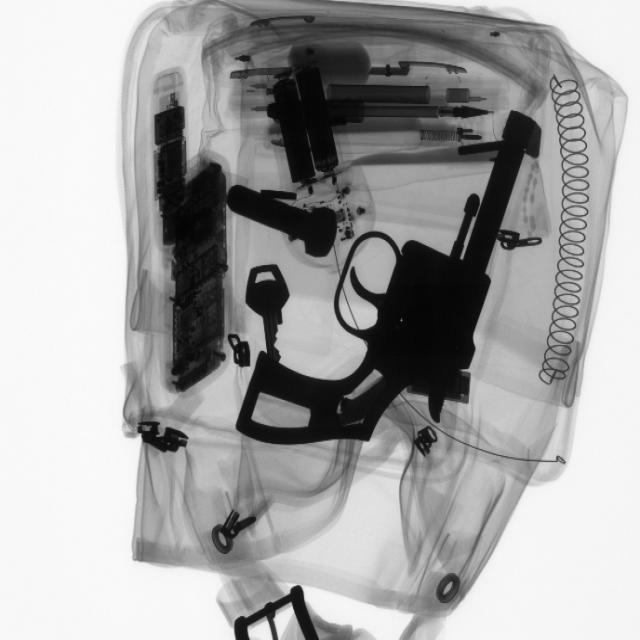GUN: (235, 117, 537, 453)
SCREW: (221, 178, 361, 271)
